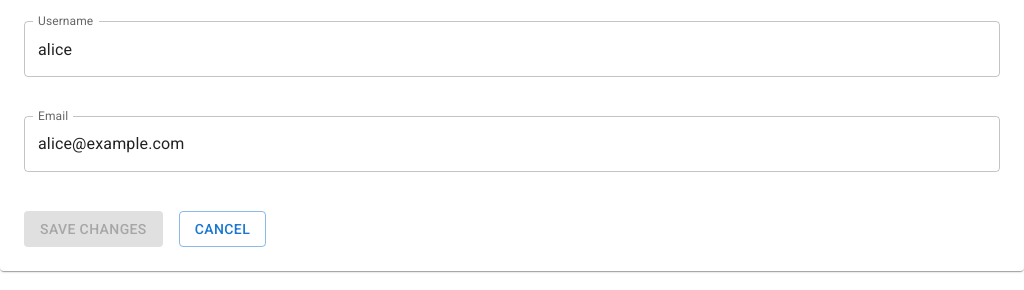
ProfileForm › disables submit until form is dirty and valid
expect the button with test id "submit-button" is disabled: met, box [24,211,163,247]
Note: Make invalid change
Replace the text in the field with test id "email-input" with "invalid": (512, 144) [24,116,1000,172]
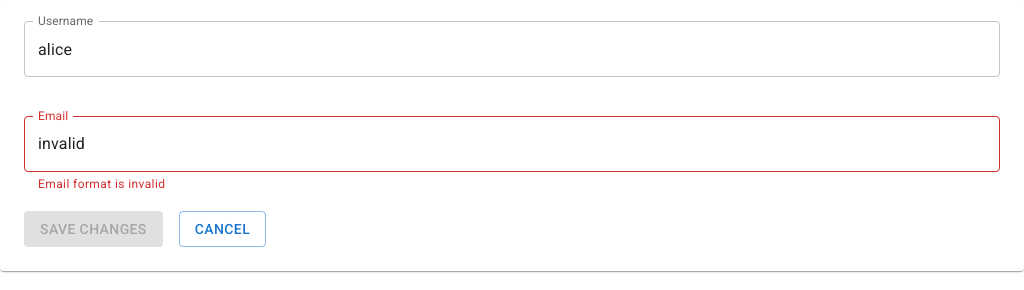
expect the button with test id "submit-button" is disabled: met, box [24,211,163,247]
expect the text "Email format is invalid" is shown: met, box [38,177,165,191]
Note: Fix email and ensure submit is enabled
Replace the text in the field with test id "email-input" with "alice2@example.com": (512, 144) [24,116,1000,172]
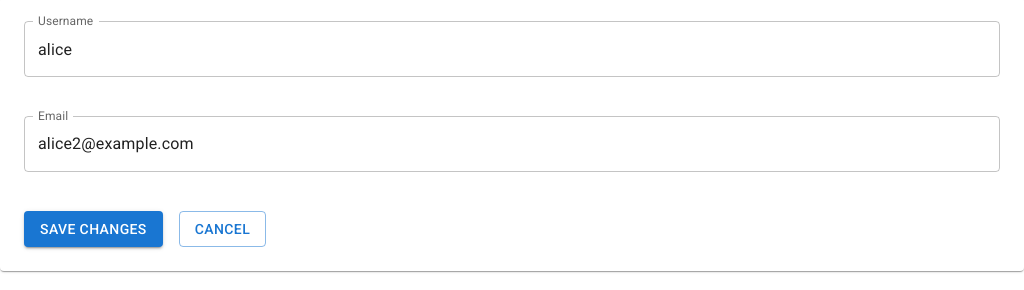
expect the button with test id "submit-button" is enabled: met, box [24,211,163,247]
